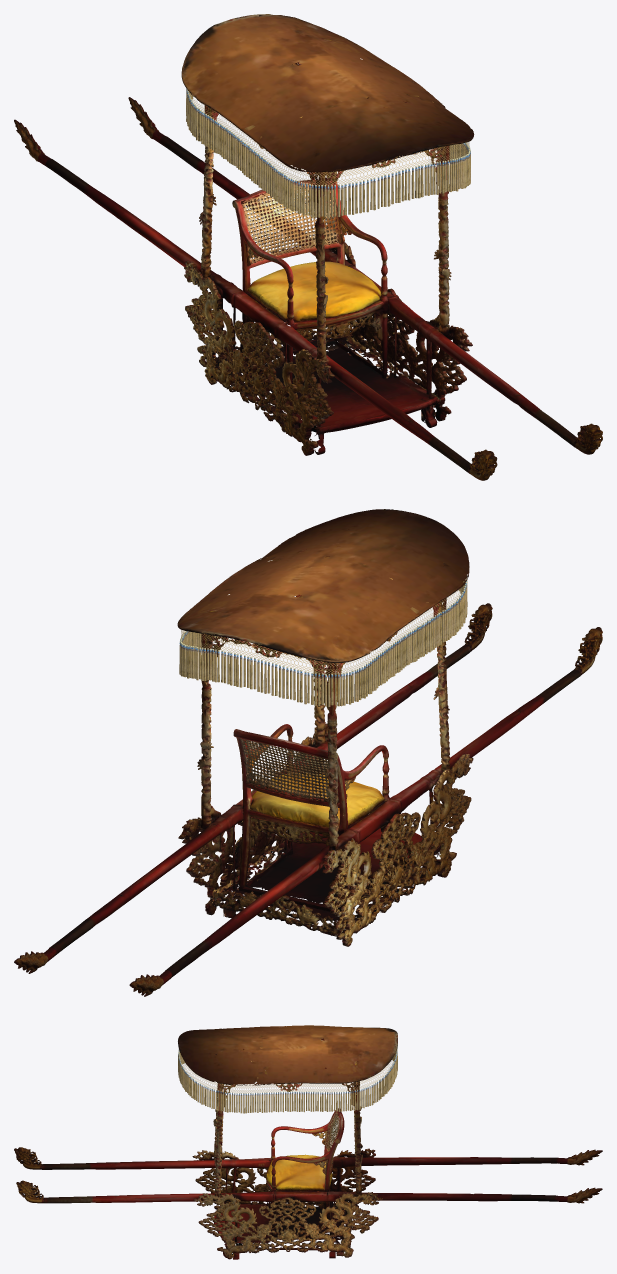
File: kieu-vua.glb
3 views of the same model, one above another, from view 1: azimuth 30°, elevation 25°; view 2: azimuth 150°, elevation 25°; view 3: azimuth 270°, elevation 25° (orthographic). The views are drawn at different scales.
Visible parts, largest first — view 1: Kieu1; view 2: Kieu1; view 3: Kieu1.
Part boxes in pixels (x1,y1,x2,y2): Kieu1: (14,14,602,480); Kieu1: (14,509,602,996); Kieu1: (14,1025,602,1259).
Bounding box in the file's own units: 1.39 × 2.35 × 6.21.
Materials: 3 (3 with a texture image).
